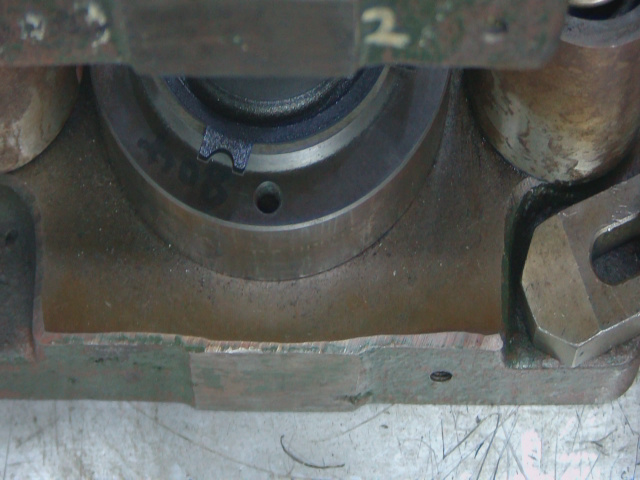HX2: (198, 128, 261, 184)
